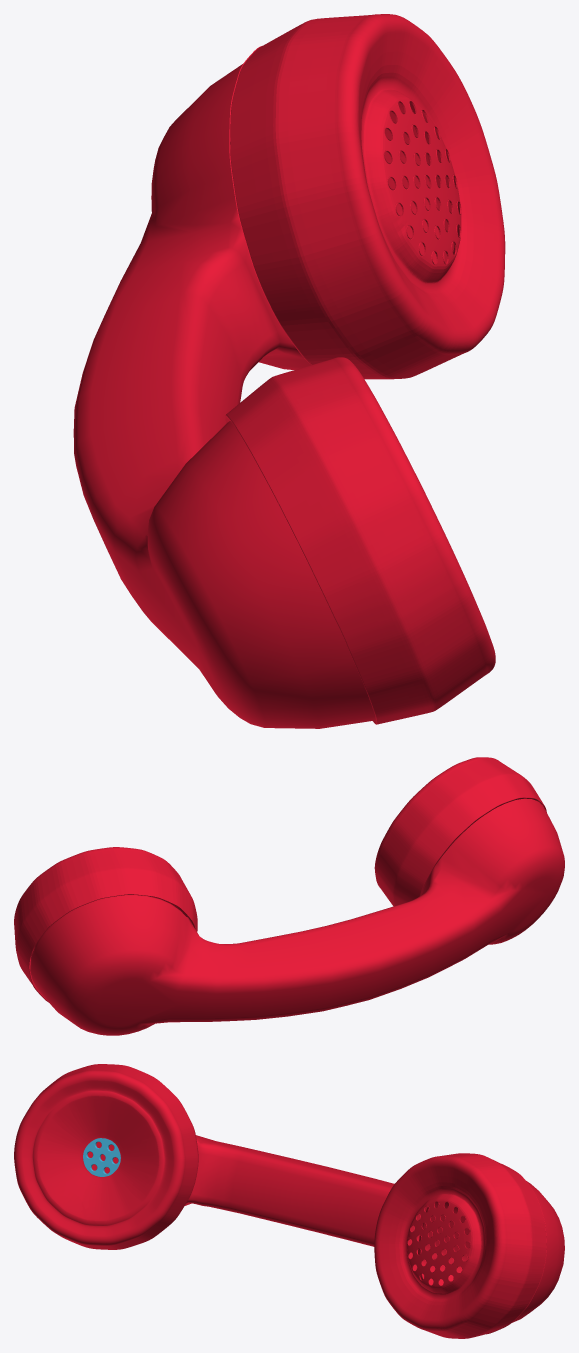
Rendered from telefono.glb.
The picture shows the model from 3 angles, top to bottom: view 1: azimuth 30°, elevation 25°; view 2: azimuth 150°, elevation 25°; view 3: azimuth 270°, elevation 25°; orthographic projection. The views are drawn at different scales.
Parts seen in each view (by area): view 1: prendretlf, ecouter, parler_telephone_0.003, ecouter_telephone_0.001, parler, parler_telephone_0.002, parler_telephone_0.001; view 2: prendretlf, ecouter, parler_telephone_0.003, parler, parler_telephone_0.002, parler_telephone_0.001; view 3: ecouter, parler_telephone_0.003, prendretlf, parler_telephone_0.002, ecouter_telephone_0.001, parler, parler_telephone_0.001.
Boxes of the visible parts, left/top/right/bottom form: prendretlf: left=73, top=63, right=375, bottom=728; ecouter: left=229, top=14, right=505, bottom=379; parler_telephone_0.003: left=226, top=358, right=477, bottom=724; ecouter_telephone_0.001: left=361, top=65, right=473, bottom=303; parler: left=225, top=385, right=432, bottom=724; parler_telephone_0.002: left=323, top=357, right=495, bottom=680; parler_telephone_0.001: left=225, top=406, right=378, bottom=722; prendretlf: left=30, top=798, right=564, bottom=1035; ecouter: left=14, top=847, right=197, bottom=1002; parler_telephone_0.003: left=376, top=761, right=546, bottom=906; parler: left=379, top=762, right=546, bottom=902; parler_telephone_0.002: left=374, top=757, right=501, bottom=889; parler_telephone_0.001: left=420, top=779, right=545, bottom=895; ecouter: left=374, top=1153, right=546, bottom=1338; parler_telephone_0.003: left=29, top=1064, right=198, bottom=1249; prendretlf: left=87, top=1135, right=564, bottom=1322; parler_telephone_0.002: left=14, top=1069, right=187, bottom=1246; ecouter_telephone_0.001: left=395, top=1182, right=486, bottom=1305; parler: left=33, top=1065, right=198, bottom=1249; parler_telephone_0.001: left=29, top=1088, right=167, bottom=1229.
Bounding box in the file's own units: 0.1736 × 0.0802 × 0.2371.
